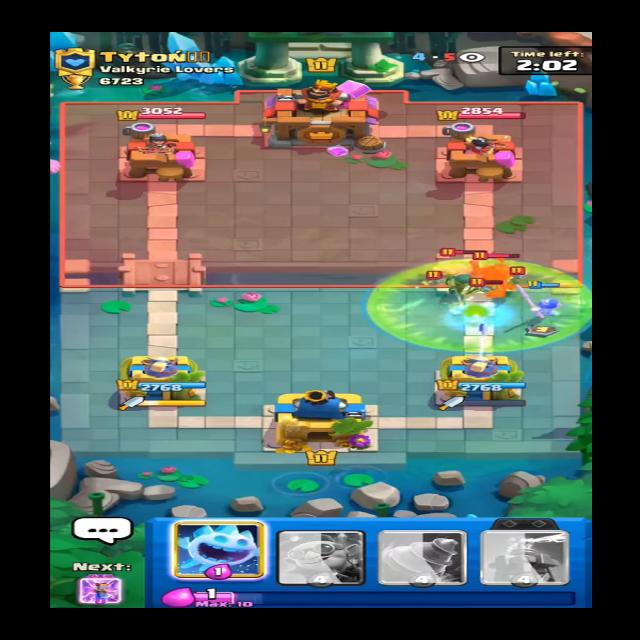bats: (502, 269, 535, 288), (469, 282, 503, 300)
night-witch: (437, 256, 477, 299)
prince: (475, 249, 521, 298)
